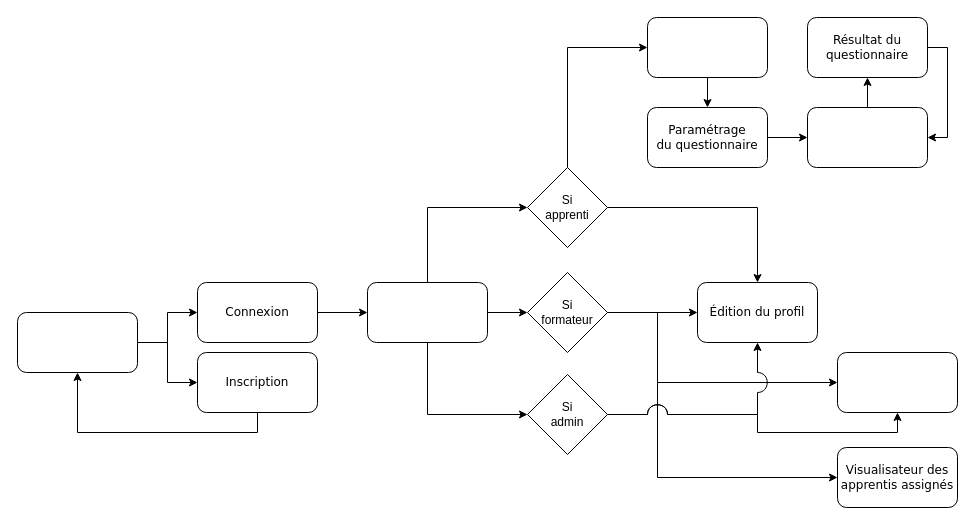
Image size: 975x525. Some labels were removed from this diagram. The shapes that lost their labels are listed below. From the top down, each one's centre as x and y in pixels, then its label:
At pixel 707 47: "Choix du questionnaire".
At pixel 867 137: "Questionnaire".
At pixel 427 312: "Tableau de bord".
At pixel 77 342: "Page d'accueil".
At pixel 897 382: "Éditeur de graphe".
